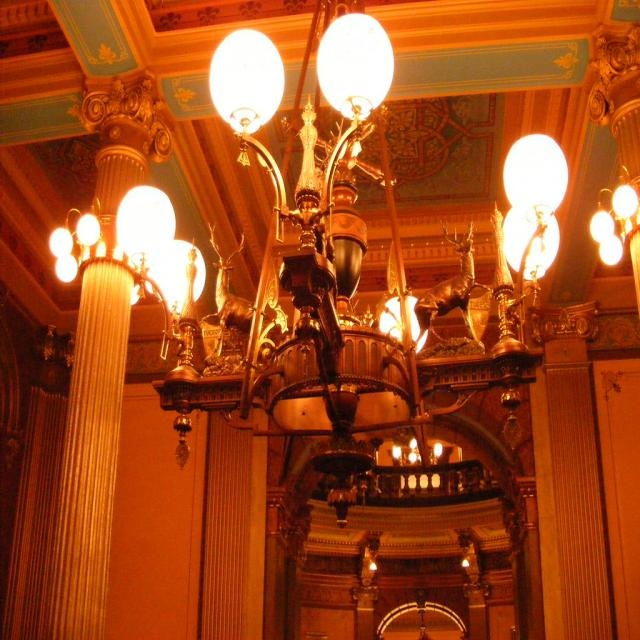no_fire: (22, 158, 222, 367), (177, 44, 440, 175), (466, 125, 640, 280)
